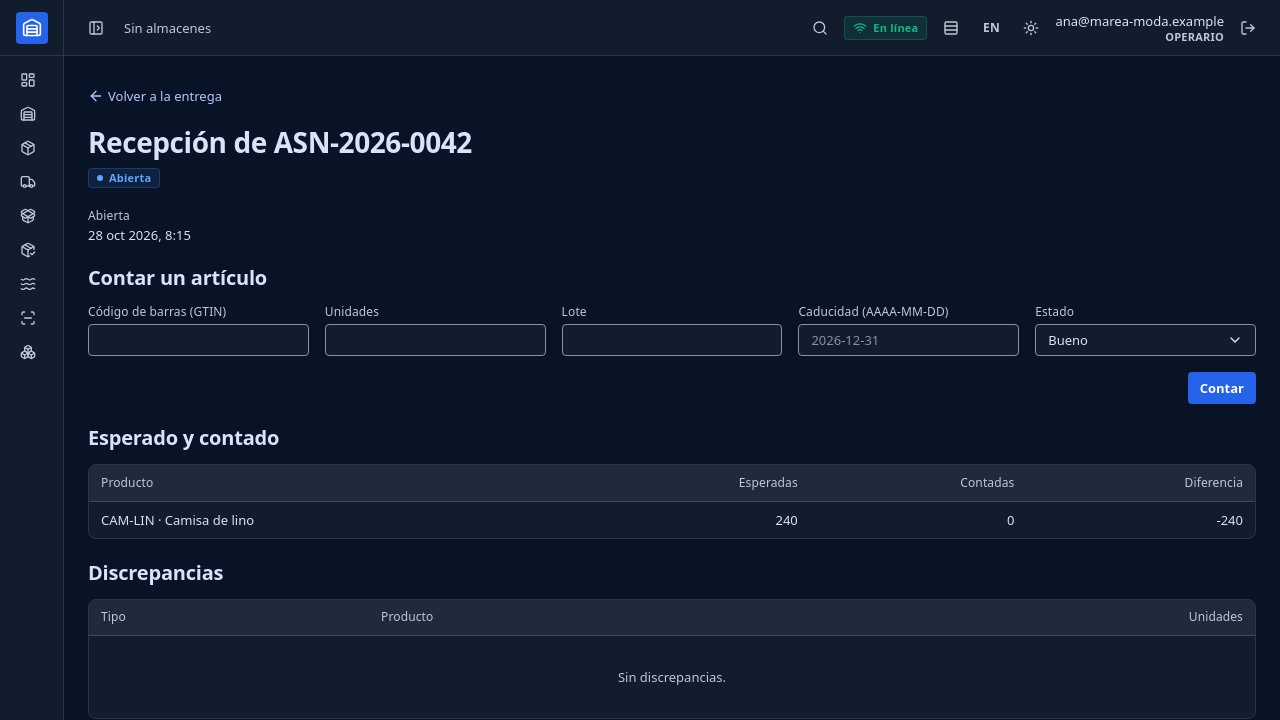
a receipt at the dock › counts an item, sends what was typed and clears the form for the next one
In the field labelled "Código de barras (GTIN)": (198, 340) 88,324 -> 309,356, type "8412345678905"
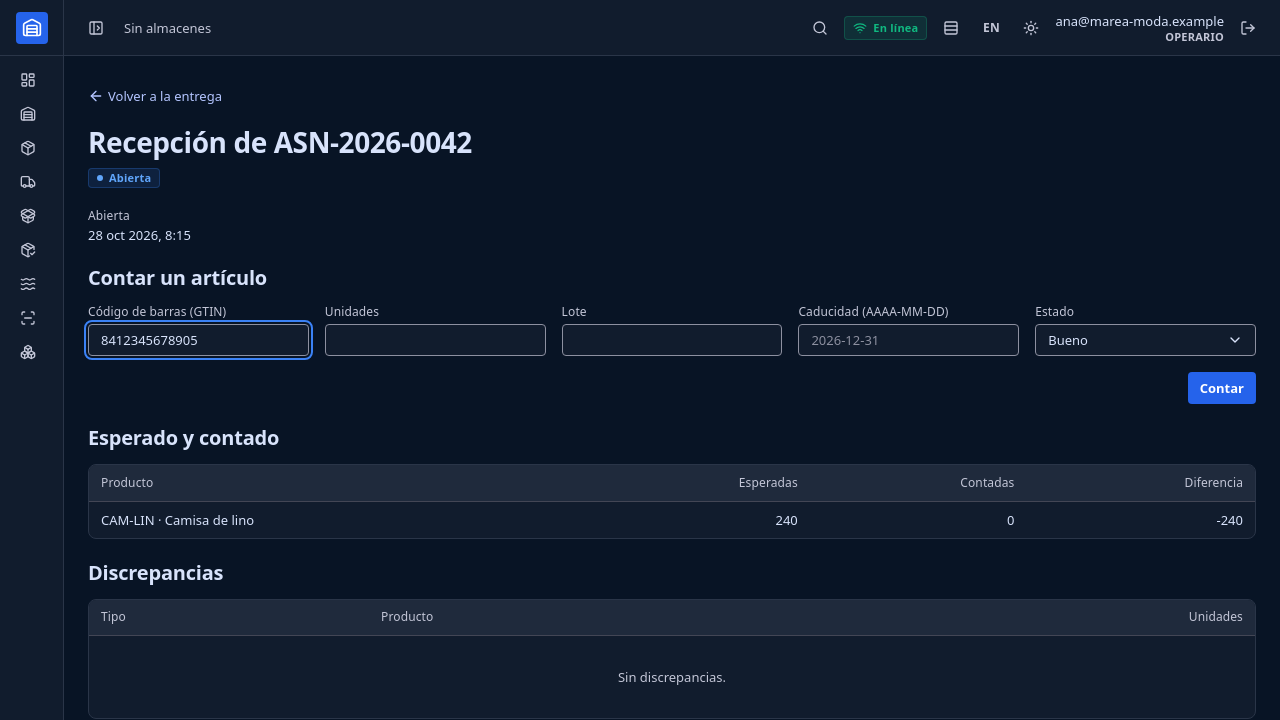
In the field labelled "Unidades": (435, 340) 325,324 -> 546,356, type "12"
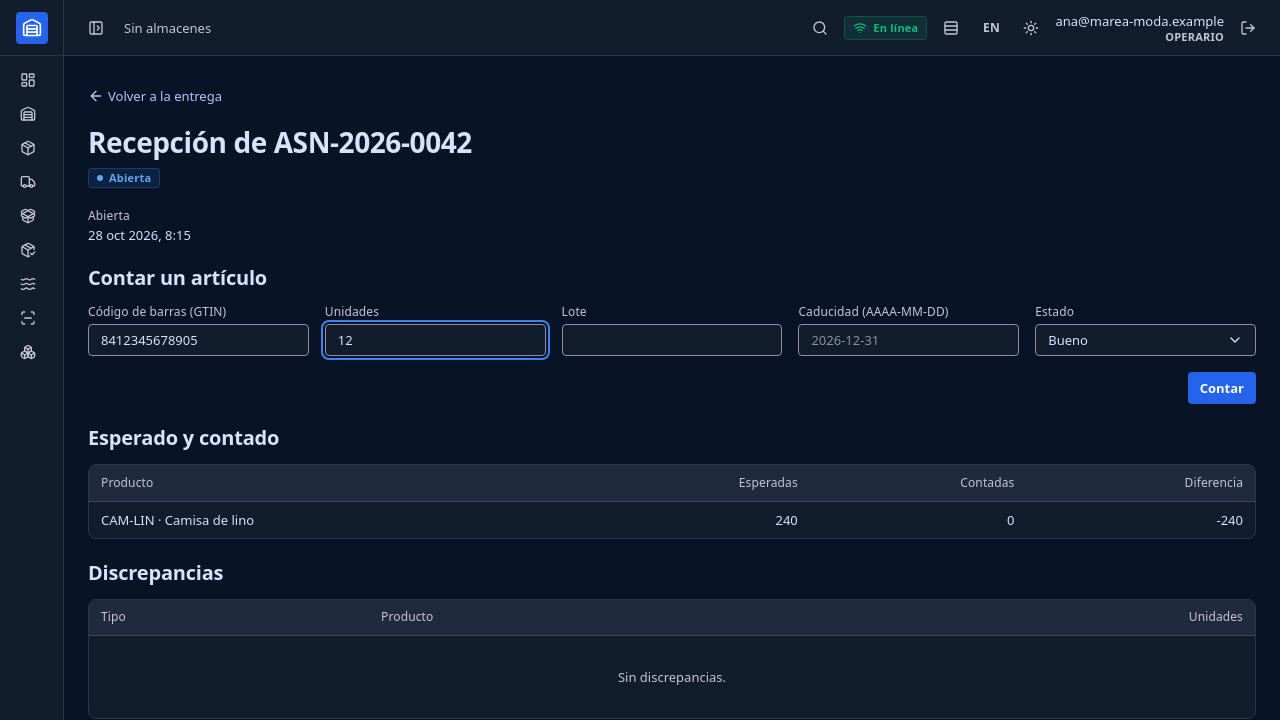
Click the button "Contar": (1222, 388) 1188,372 -> 1256,404
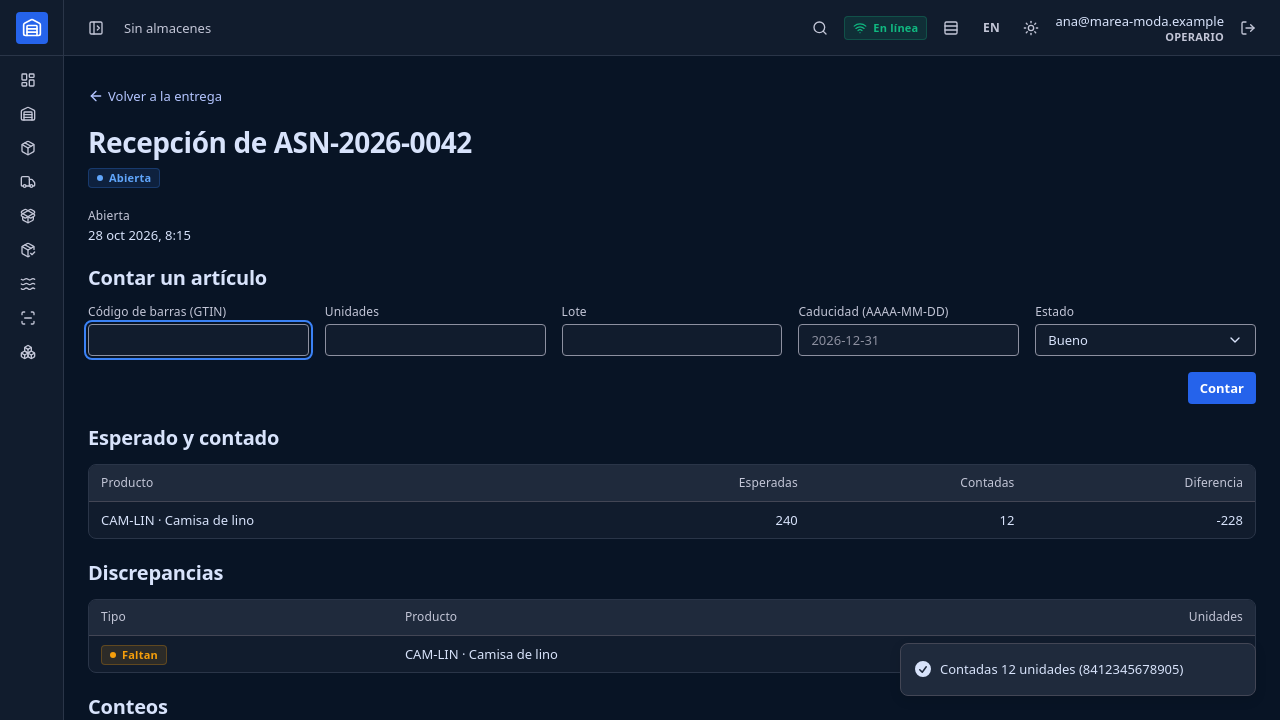
Result: the field labelled "Código de barras (GTIN)" is empty at 88,324 -> 309,356
Result: the text "Faltan" is shown at 101,644 -> 167,664
